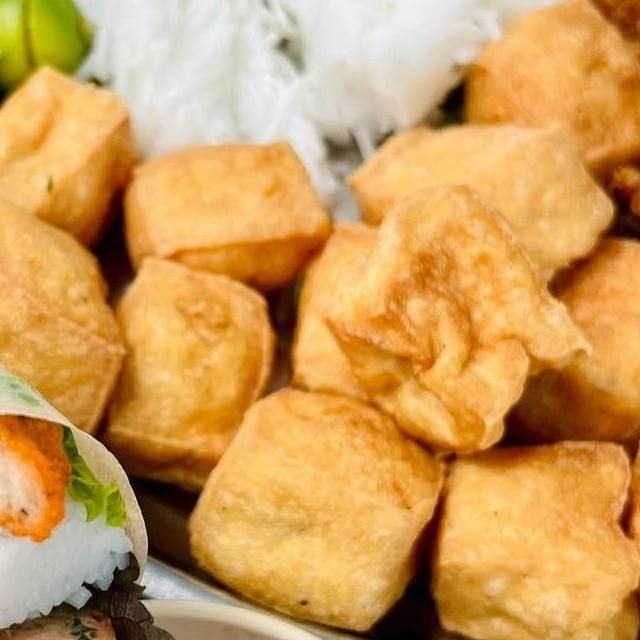bun: (21, 0, 640, 182), (0, 479, 140, 640)
bun dau: (0, 0, 640, 640)
cha com: (0, 401, 82, 551)
dau hu: (318, 182, 598, 457), (180, 376, 456, 640), (344, 111, 622, 301), (87, 250, 290, 507), (417, 426, 640, 640), (112, 134, 340, 320), (444, 0, 640, 197), (0, 189, 134, 439), (0, 54, 141, 267)
